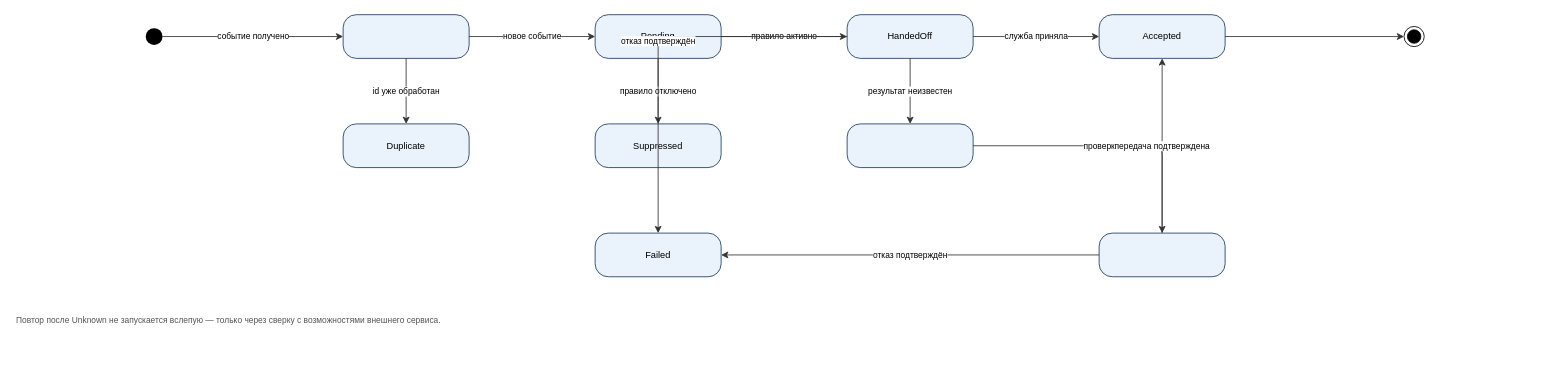
Some shapes in this 1551 by 366 pixel diagram are drawn without their labels. The shapes that lost their labels are listed below. From the top down, each one's box as (x1, y1, x2, y2) in pixels, then its label:
(342, 14, 469, 58): Received
(846, 123, 973, 168): Unknown
(1098, 232, 1225, 277): Reconciliation
